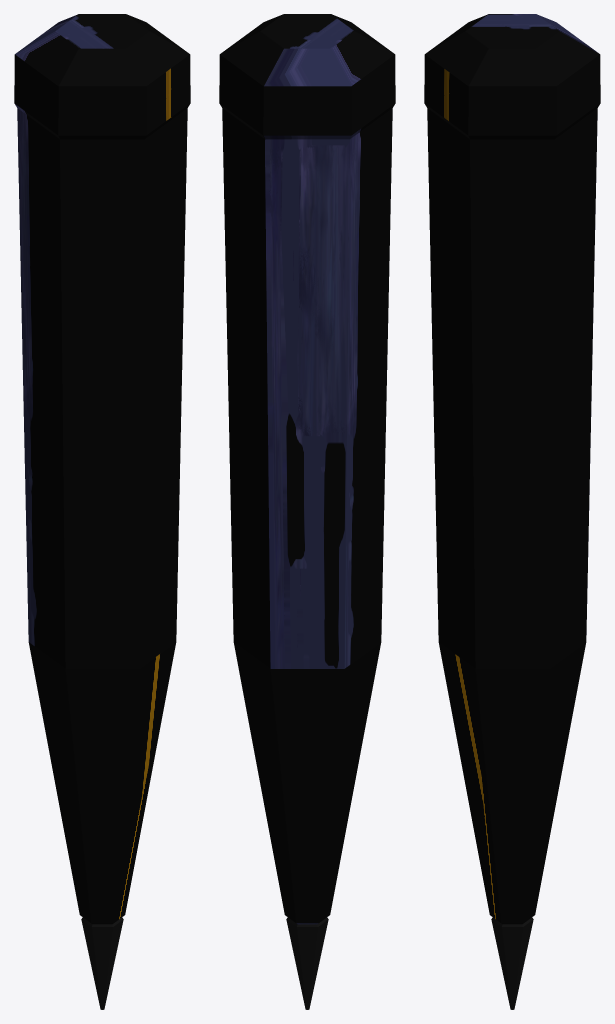
The model's file is obj_Pencil_short.obj.
3 views of the same model, side by side, from view 1: azimuth 30°, elevation 25°; view 2: azimuth 150°, elevation 25°; view 3: azimuth 270°, elevation 25° (orthographic).
Visible parts, largest first — view 1: obj_Pencil_short; view 2: obj_Pencil_short; view 3: obj_Pencil_short.
Part boxes in pixels (x1=…): obj_Pencil_short: x1=14, y1=14, x2=190, y2=1009; obj_Pencil_short: x1=219, y1=14, x2=395, y2=1009; obj_Pencil_short: x1=424, y1=14, x2=600, y2=1009.
Bounding box in the file's own units: 0.00919 × 0.0649 × 0.0106.
